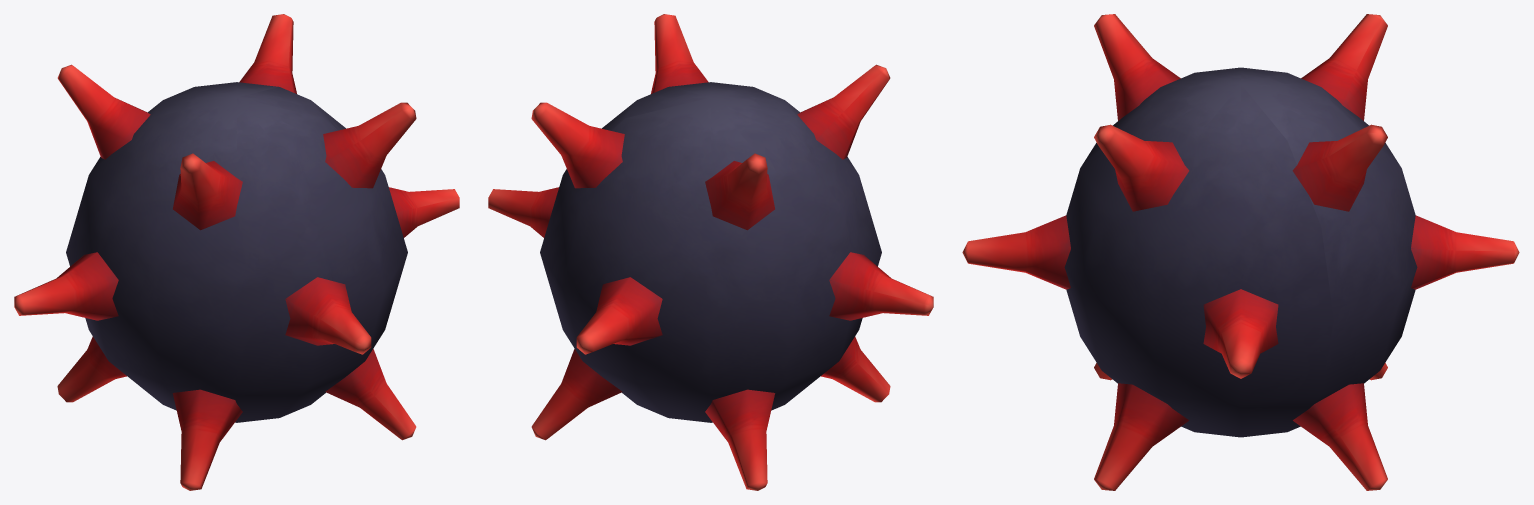
File: mine2.fbx
3 renders of one model, left to right at view 1: azimuth 30°, elevation 25°; view 2: azimuth 150°, elevation 25°; view 3: azimuth 270°, elevation 25°, orthographic. The views are drawn at different scales.
Parts seen in each view (by area): view 1: pCone14; view 2: pCone14; view 3: pCone14.
Part boxes in pixels (x1,y1,x2,y2): pCone14: [14, 14, 459, 490]; pCone14: [488, 14, 933, 490]; pCone14: [962, 14, 1519, 490].
Bounding box in the file's own units: 3 × 2.17 × 3.
Materials: 1 (1 with a texture image).
